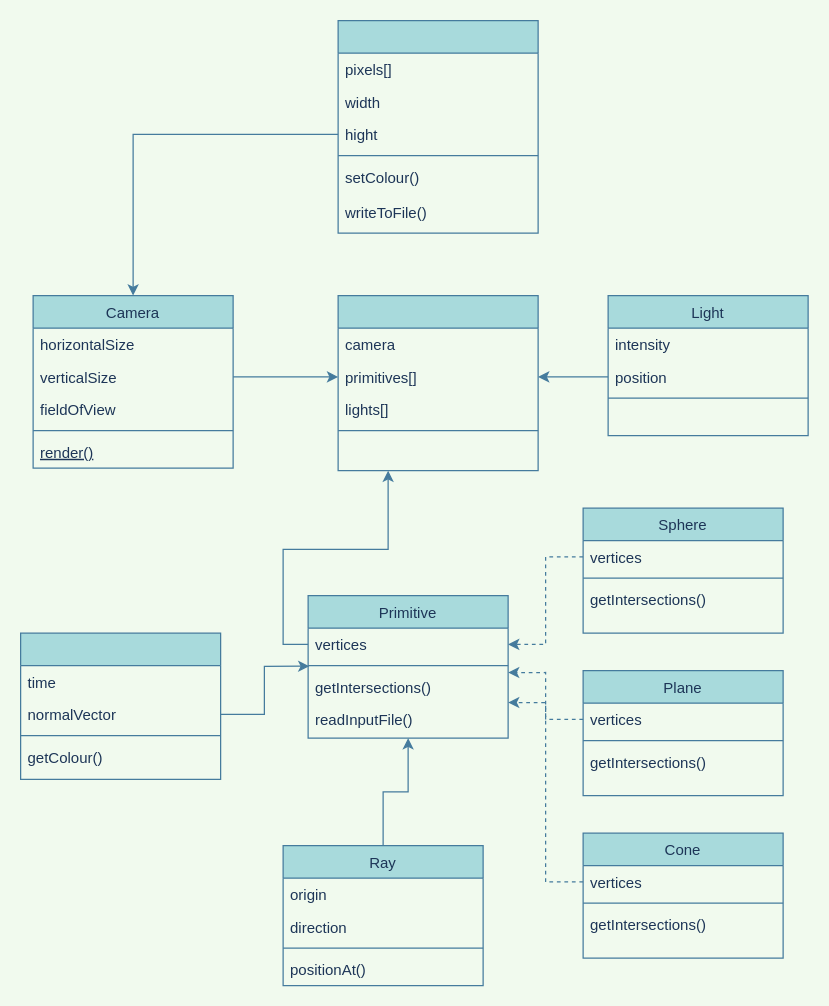
This 829x1006 diagram has some shape labels left out. The box of each missing label's shape, as (x1, y1, x2, y2) in pixels:
Canvas: (337, 19, 538, 233)
Intersection: (19, 632, 221, 779)
Scene: (337, 294, 538, 471)
